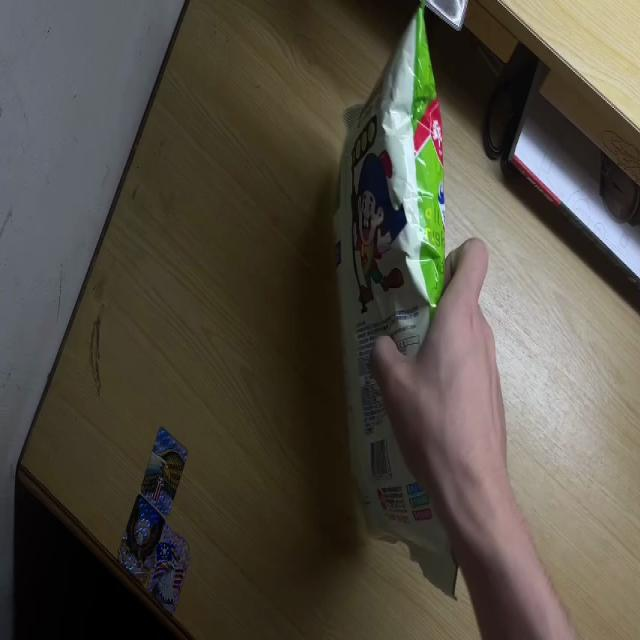Good-Luck: (332, 0, 458, 592)
